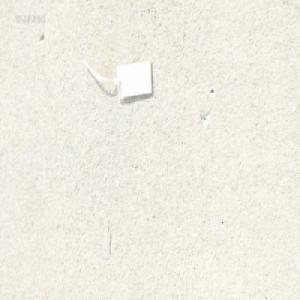LuggageTag: (82, 55, 154, 102)
